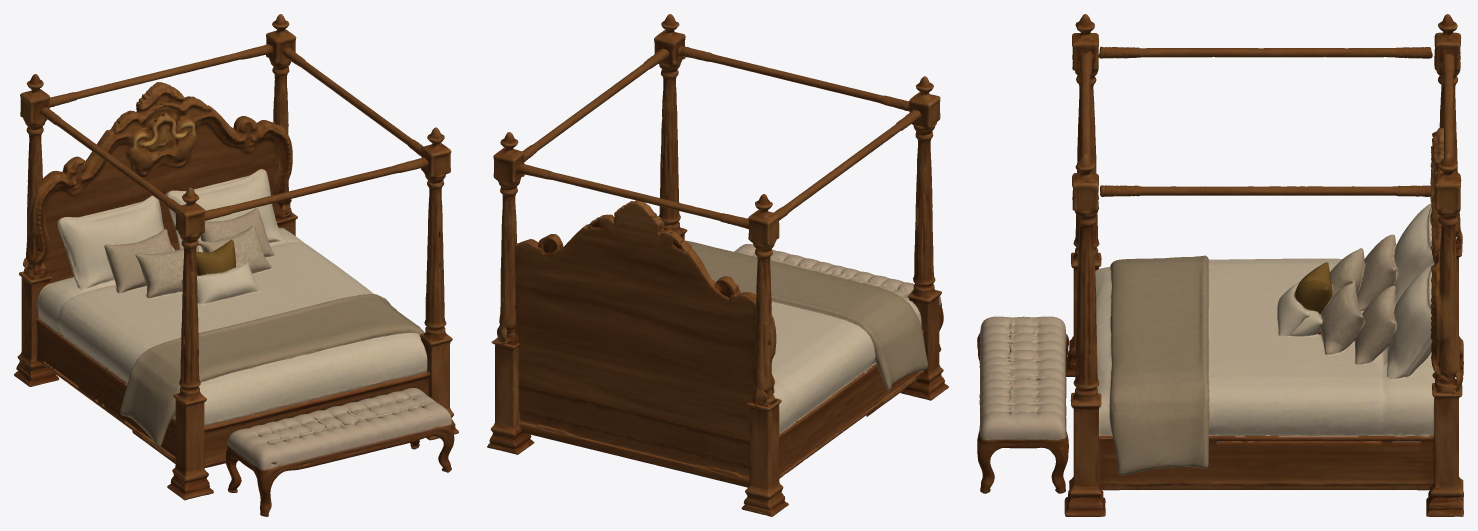
File: Ornate Carved Wood Canopy Bed with Matching Bench [oEXhdR].glb
The picture shows the model from 3 angles, left to right: view 1: azimuth 30°, elevation 25°; view 2: azimuth 150°, elevation 25°; view 3: azimuth 270°, elevation 25°; orthographic projection. The views are drawn at different scales.
Parts seen in each view (by area): view 1: world; view 2: world; view 3: world.
Boxes of the visible parts, x1=… form: world: x1=14, y1=14, x2=458, y2=516; world: x1=487, y1=14, x2=948, y2=516; world: x1=977, y1=14, x2=1463, y2=516.
Size of the model in its own units: 0.786 by 0.81 by 1.
Materials: 1 (1 with a texture image).
